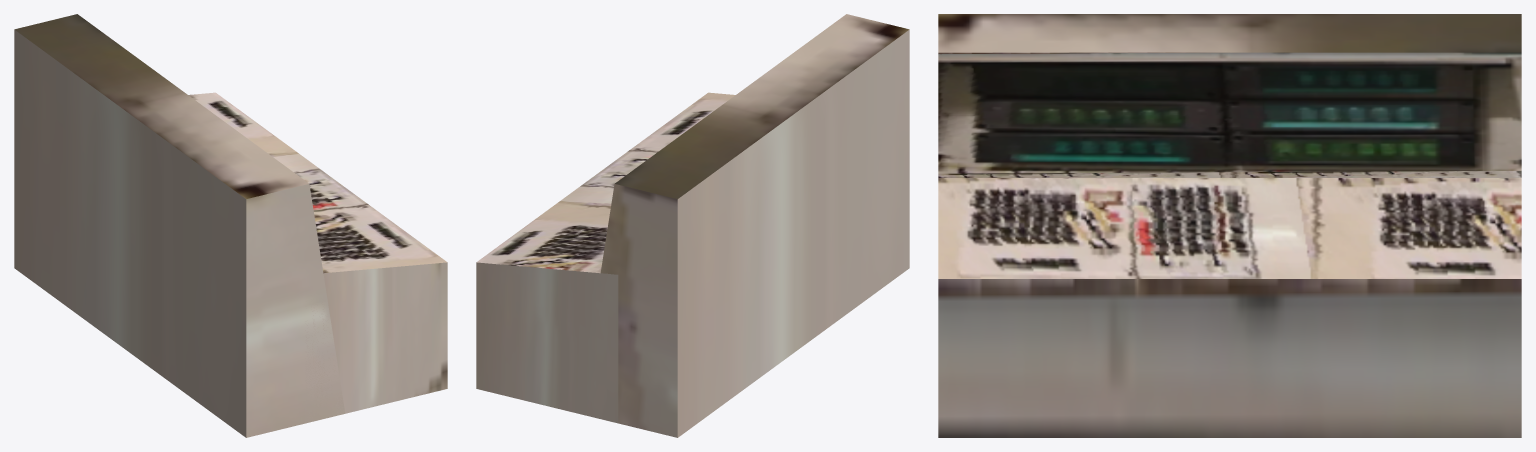
The model's file is comput.fbx.
3 views of the same model, side by side, from view 1: azimuth 30°, elevation 25°; view 2: azimuth 150°, elevation 25°; view 3: azimuth 270°, elevation 25° (orthographic). The views are drawn at different scales.
Visible parts, largest first — view 1: Cube; view 2: Cube; view 3: Cube.
Boxes of the visible parts, x1,y1,x2,y2 form: Cube: [14, 14, 447, 437]; Cube: [476, 14, 909, 437]; Cube: [938, 14, 1521, 437].
Bounding box in the file's own units: 284 × 321 × 566.
1 material, 1 textured.
